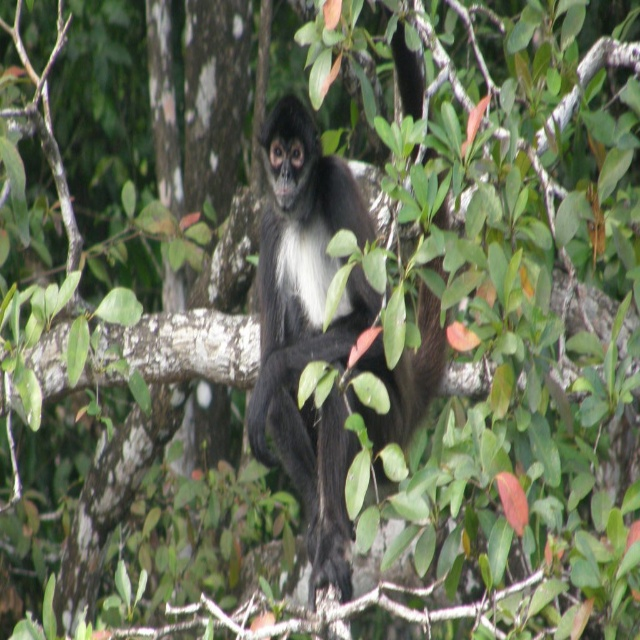Monkey: (245, 90, 450, 613)
